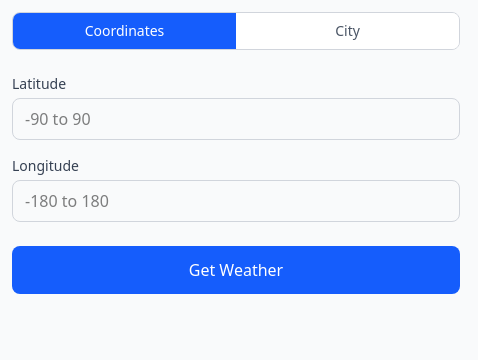
Test: WeatherForm › shows validation errors on empty submit in coordinates mode
Click the button "Get Weather". click: point(236, 270)
box: [12,246,460,294]
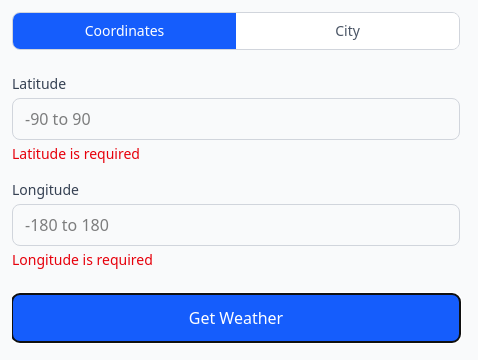
Result: the text "Latitude is required" is shown at [12,144,140,163]
Result: the text "Longitude is required" is shown at [12,250,153,269]
